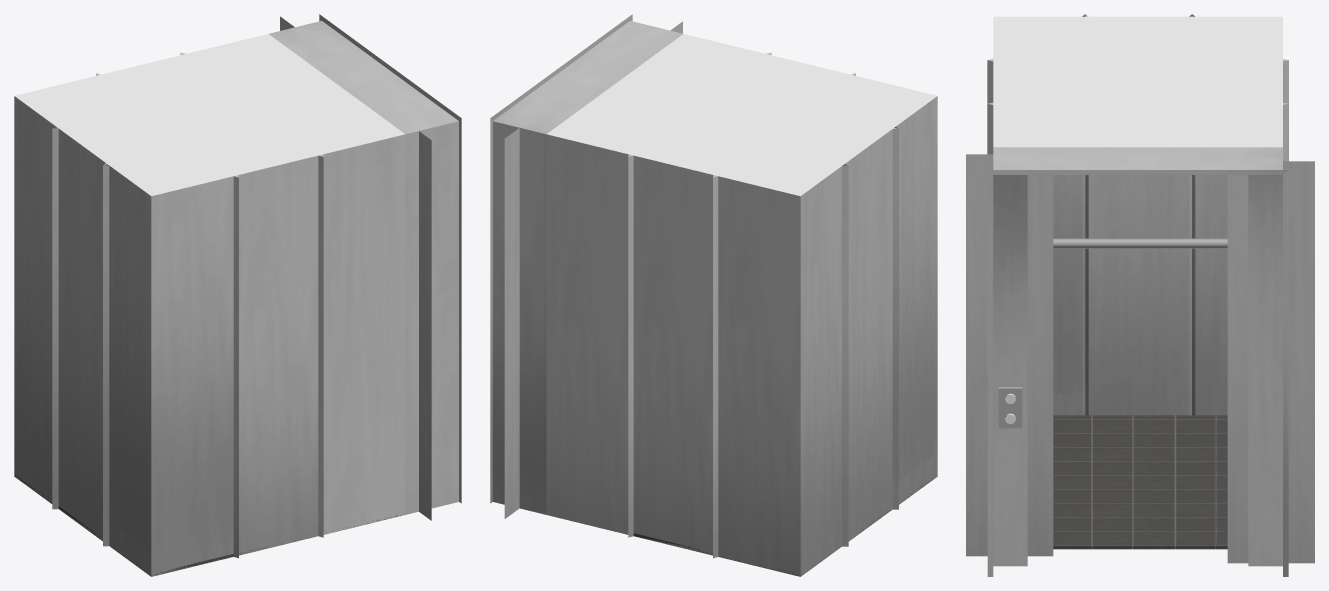
File: ascensor.FBX
3 renders of one model, left to right at view 1: azimuth 30°, elevation 25°; view 2: azimuth 150°, elevation 25°; view 3: azimuth 270°, elevation 25°, orthographic. The views are drawn at different scales.
Visible parts, largest first — view 1: ascensor; view 2: ascensor; view 3: ascensor.
Boxes of the visible parts, x1=… form: ascensor: x1=14, y1=14, x2=461, y2=576; ascensor: x1=490, y1=14, x2=937, y2=576; ascensor: x1=966, y1=14, x2=1314, y2=576.
Bounding box in the file's own units: 192 × 226 × 176.
